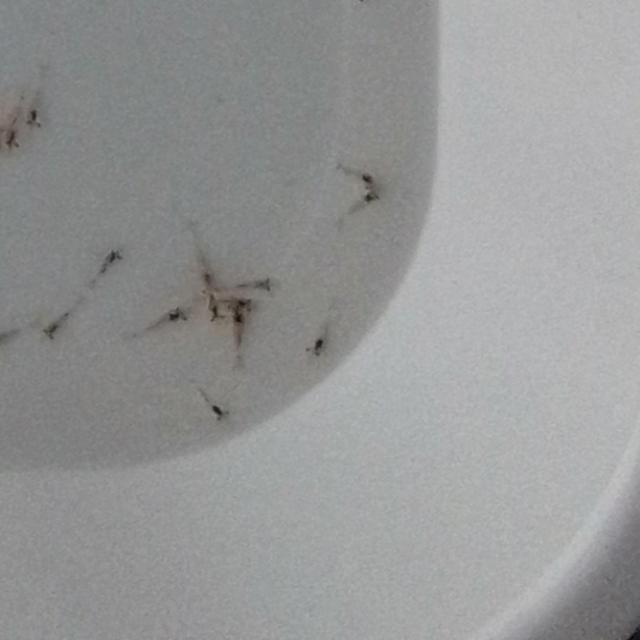shrimp-seed: (39, 313, 65, 342), (23, 102, 47, 132), (2, 126, 26, 154), (196, 272, 225, 294), (162, 304, 188, 325), (204, 300, 226, 324), (208, 401, 230, 425), (100, 247, 124, 267), (229, 310, 249, 334), (253, 276, 276, 294), (362, 184, 382, 204), (306, 336, 324, 358), (360, 170, 378, 190), (234, 295, 256, 311)
